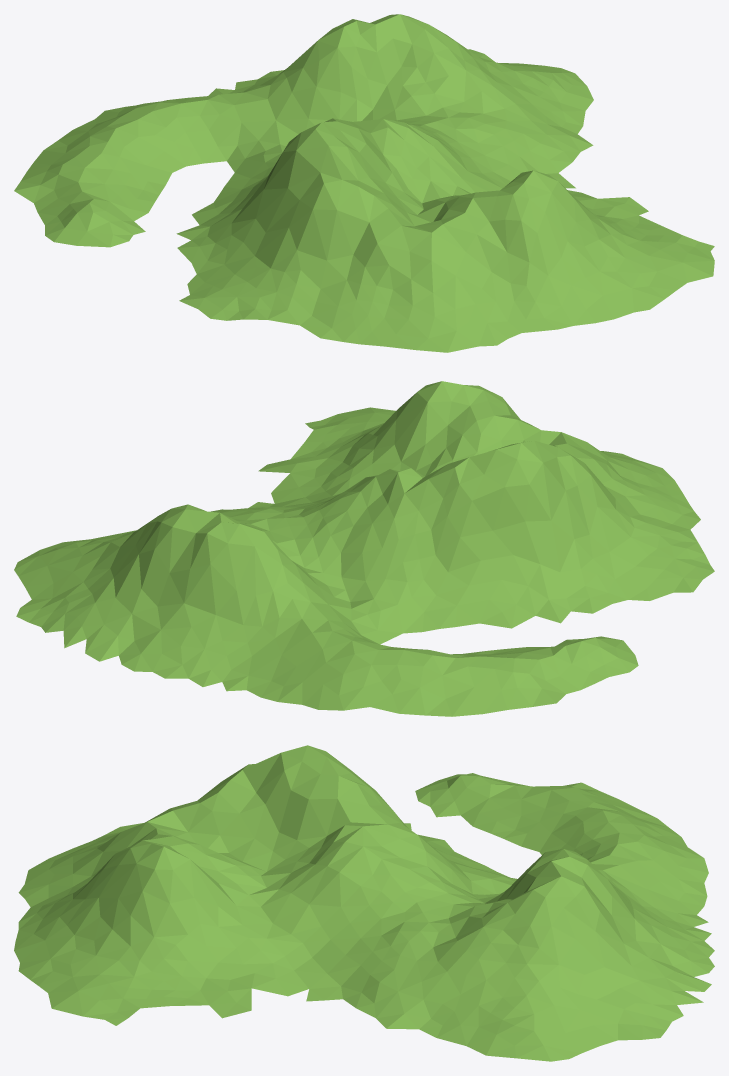
Rendered from MT_Mountain_L_a_19.fbx.
3 renders of one model, top to bottom at view 1: azimuth 30°, elevation 25°; view 2: azimuth 150°, elevation 25°; view 3: azimuth 270°, elevation 25°, orthographic. The views are drawn at different scales.
Parts seen in each view (by area): view 1: MT_Mountain_L_a_19; view 2: MT_Mountain_L_a_19; view 3: MT_Mountain_L_a_19.
Part boxes in pixels (x1,y1,x2,y2): MT_Mountain_L_a_19: [14, 14, 714, 352]; MT_Mountain_L_a_19: [14, 381, 714, 716]; MT_Mountain_L_a_19: [14, 745, 714, 1061].
Size of the model in its own units: 8682 by 1841 by 9043.
